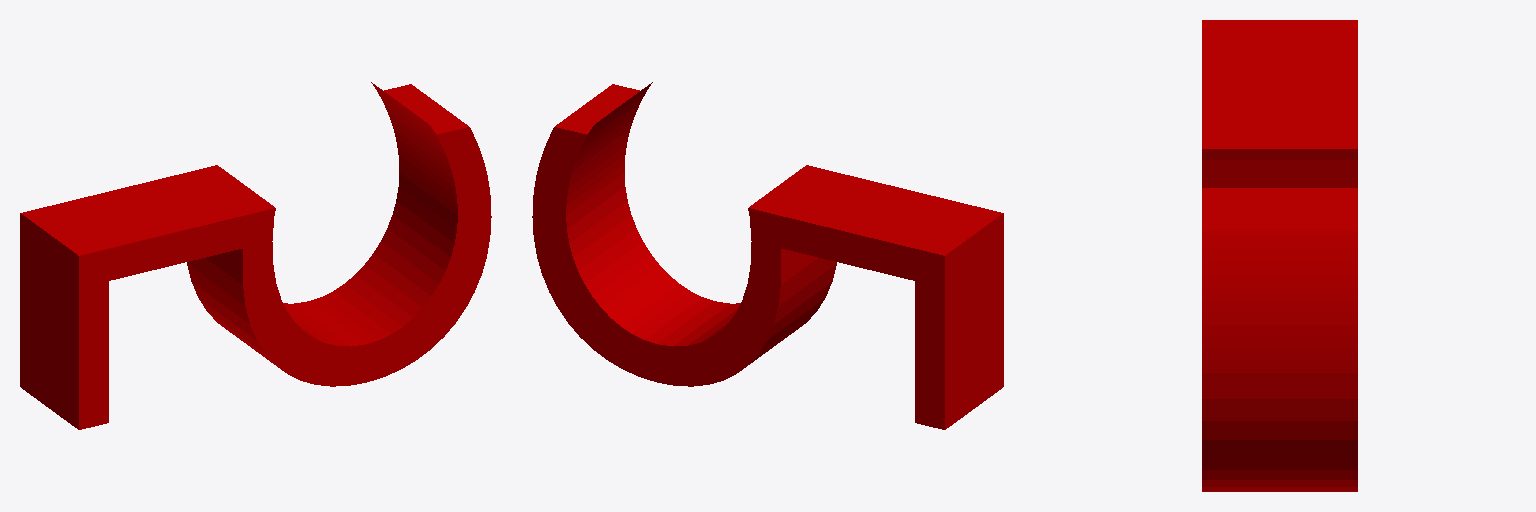
URDF robot description (ring):
<?xml version="0.0" ?>
<robot name="ring">
    <material name="red">
        <color rgba="0.799103 0.003676 0.010960 1"/>
    </material>

    <link name="baseLink">
        <!-- from lego/lego.urdf -->
        <contact>
            <lateral_friction value="1.0"/>
            <rolling_friction value="0.0"/>
            <contact_cfm value="0.0"/>
            <contact_erp value="1.0"/>
        </contact>
        <inertial>
            <origin rpy="0 0 0" xyz="0 0 0"/>
            <mass value="0.5"/>
            <inertia ixx="1" ixy="0" ixz="0" iyy="1" iyz="0" izz="1"/>
        </inertial>
        <visual>
            <origin rpy="0 0 0" xyz="0 0 0"/>
            <geometry>
                <!--        radius: 10mm, depth: 14.5mm-->
                <mesh filename="meshes/5.obj" scale="1 1 1"/>
                <!--        <box size="0.002 0.002 0.002"/>-->
            </geometry>
            <material name="red"/>
        </visual>
        <collision>
            <origin rpy="0 0 0" xyz="0 0 0"/>
            <geometry>
                <mesh filename="meshes/5_vhacd.obj" scale="1 1 1"/>
                       <!-- <box size="0.002 0.002 0.002"/> -->
            </geometry>
        </collision>
    </link>

</robot>

--- Facts derived from the render (not from the file) ---
3 views of the same robot in one strip: view 1: azimuth 30°, elevation 25°; view 2: azimuth 150°, elevation 25°; view 3: azimuth 270°, elevation 25° (orthographic).
Model ring with 1 links and 0 joints (none), rooted at baseLink, posed every joint at zero.
Visible links, largest first — view 1: baseLink; view 2: baseLink; view 3: baseLink.
Link boxes in pixels (x1,y1,x2,y2): baseLink: [20, 82, 491, 429]; baseLink: [532, 82, 1003, 429]; baseLink: [1202, 20, 1357, 491].
Bounding box of the posed robot: 2.6 × 0.64 × 1.46 m (x, y, z).
1 mesh visuals loaded from 1 distinct referenced files (1 OBJ).